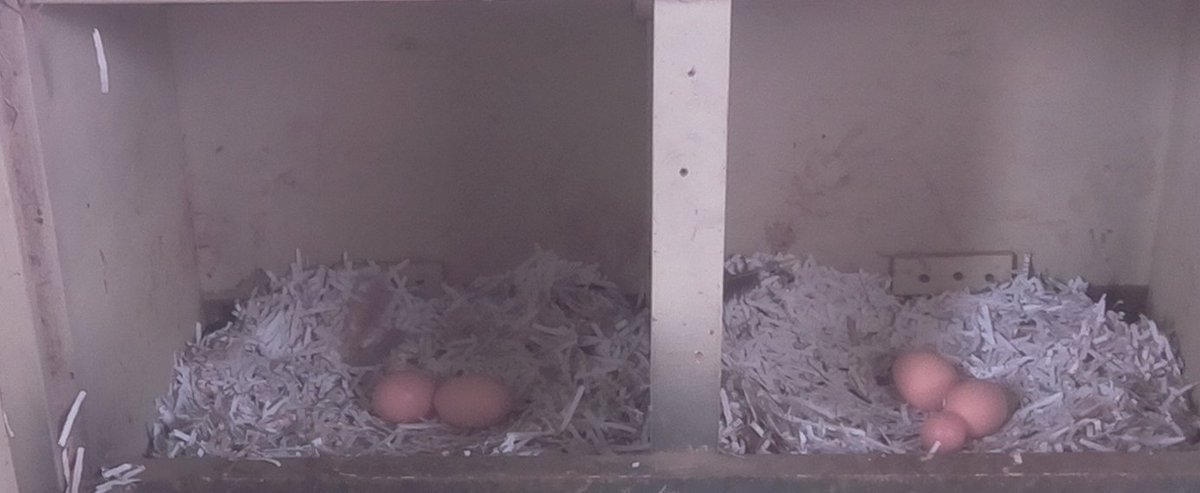egg: (429, 372, 518, 432), (887, 344, 960, 412), (938, 377, 1015, 441), (363, 366, 439, 429), (917, 412, 970, 451)
